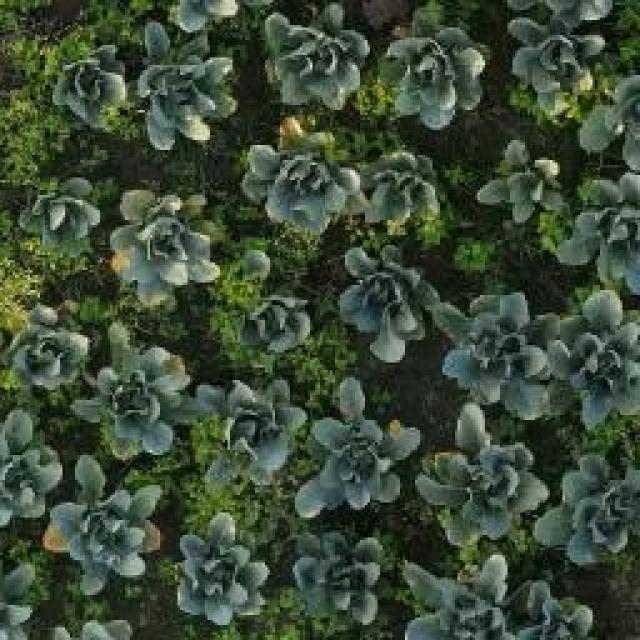cabbage: (431, 276, 553, 422), (421, 408, 545, 544), (298, 378, 415, 516), (49, 458, 163, 589), (111, 184, 224, 310), (136, 19, 238, 150), (378, 5, 488, 125), (80, 345, 190, 463), (193, 374, 310, 481), (552, 291, 640, 432), (535, 447, 640, 565), (262, 3, 372, 111), (243, 137, 357, 236), (174, 513, 268, 627), (338, 242, 432, 355), (400, 550, 509, 640), (290, 531, 392, 626), (510, 0, 608, 95), (357, 143, 449, 235), (566, 175, 640, 289), (0, 399, 62, 532), (471, 137, 565, 221), (12, 305, 90, 391), (20, 173, 103, 250), (53, 40, 129, 124), (249, 294, 336, 364), (517, 582, 601, 638)
